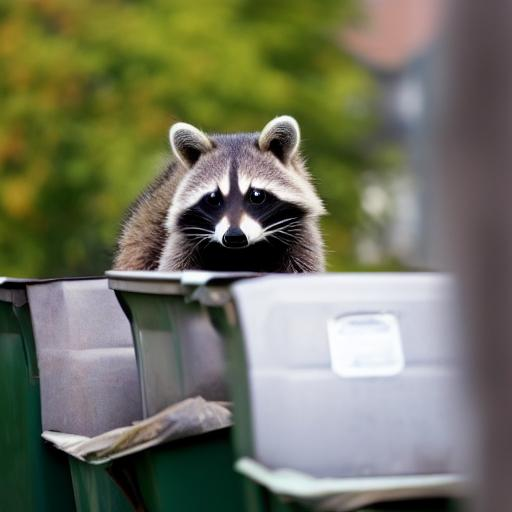raccoon: (106, 105, 334, 282)
